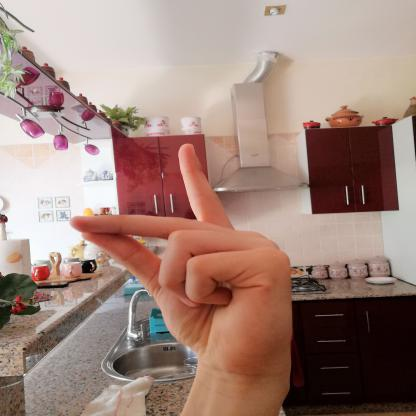TAA: (55, 133, 315, 386)
